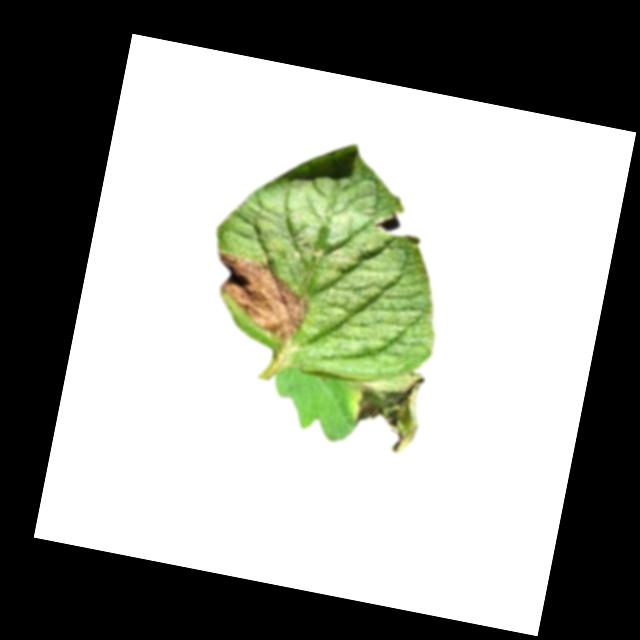Late_blight: (199, 249, 316, 351), (345, 361, 429, 455)
